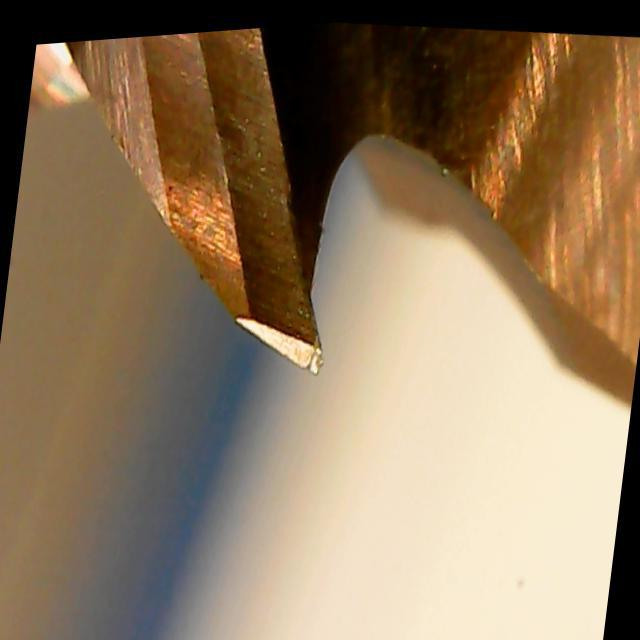Tool-wear-class-1: (157, 76, 365, 409)
